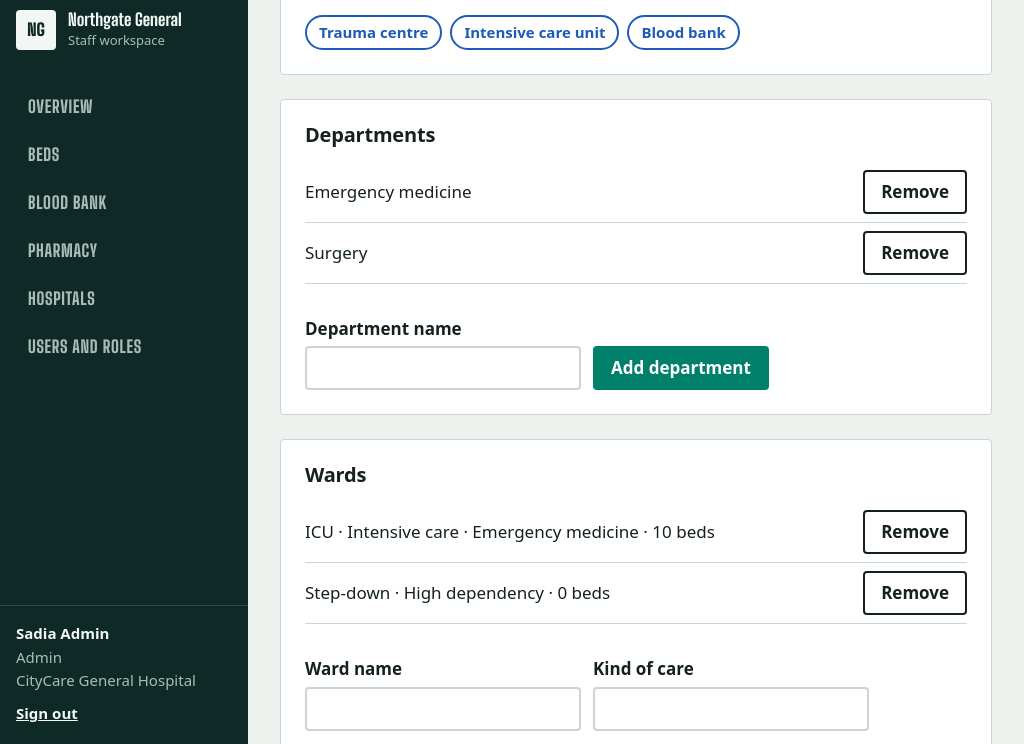
Test: HospitalDetailPage (stories 1.3 Hospital structure and capability profile) › adds a department, then offers it for new wards
The width and height of the screenshot is (1024, 744).
(page scrolled)
Type "Cardiology" into the field labelled "Department name" at coordinates (443, 368), box [305,346,581,390]
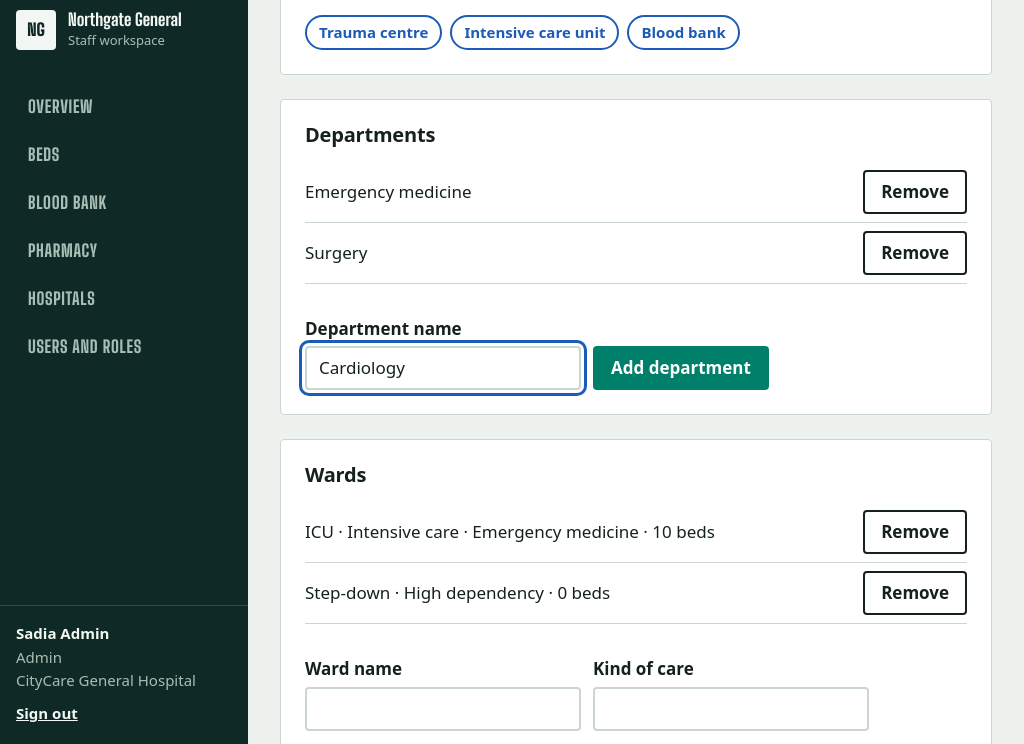
Click the button "Add department" at coordinates (681, 368), box [593,346,769,390]
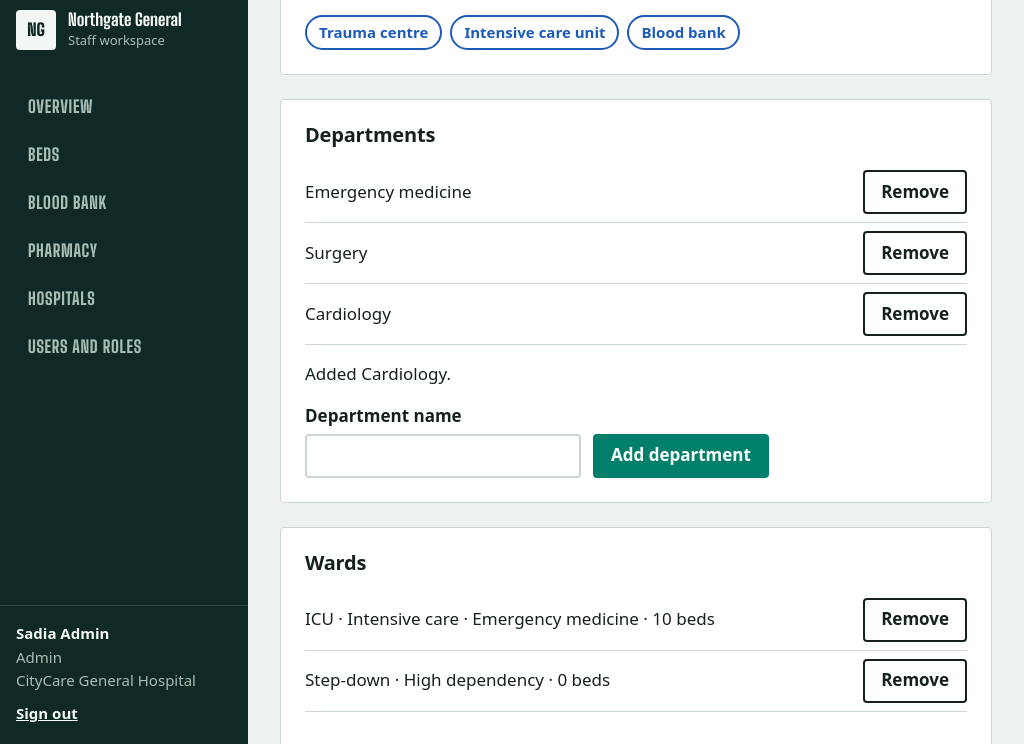
Now the text "Added Cardiology." is shown, box [305,362,451,385]
Now the field labelled "Department name" is empty, box [305,434,581,478]
Now the text "Cardiology" is shown, box [305,301,391,327]
